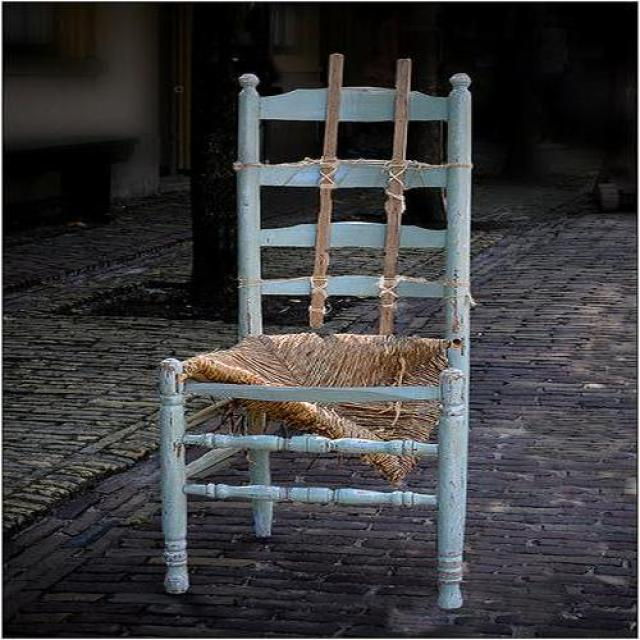chair: (160, 74, 472, 607)
